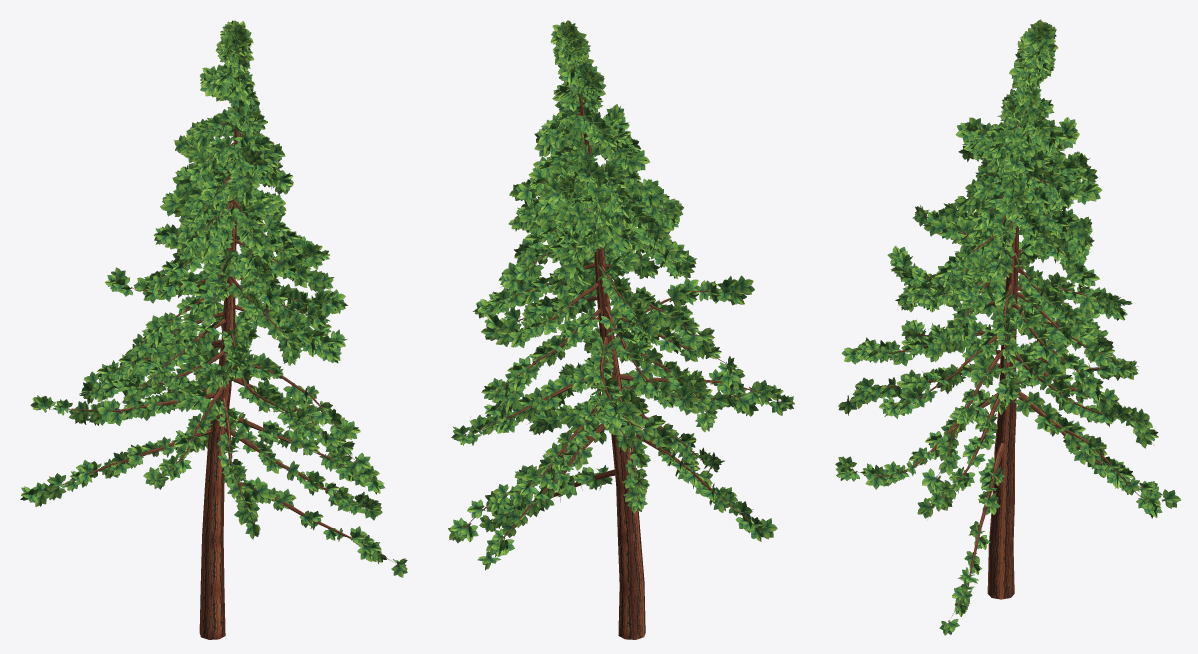
Rendered from pine3.glb.
3 renders of one model, left to right at view 1: azimuth 30°, elevation 25°; view 2: azimuth 150°, elevation 25°; view 3: azimuth 270°, elevation 25°, orthographic. The views are drawn at different scales.
Visible parts, largest first — view 1: leaves, branches; view 2: leaves, branches; view 3: leaves, branches.
Boxes of the visible parts, box(x1,y1,x2,y2) form: leaves: box(20, 20, 407, 577); branches: box(45, 106, 395, 639); leaves: box(448, 20, 794, 570); branches: box(465, 94, 778, 639); leaves: box(835, 19, 1180, 635); branches: box(854, 125, 1153, 617).
Bounding box in the file's own units: 28.98 × 47.66 × 25.64.
Materials: 2 (2 with a texture image).
